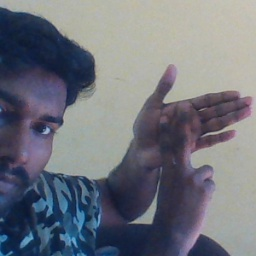N: (130, 61, 256, 201)
